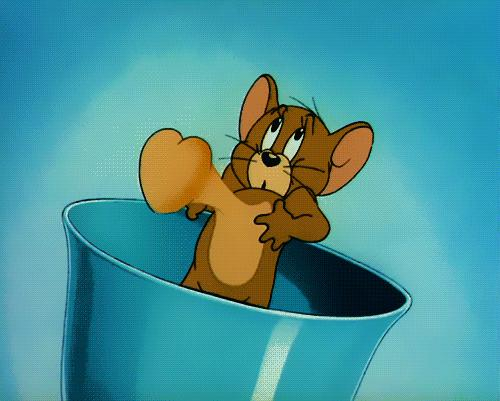jerry: (137, 73, 375, 313)
